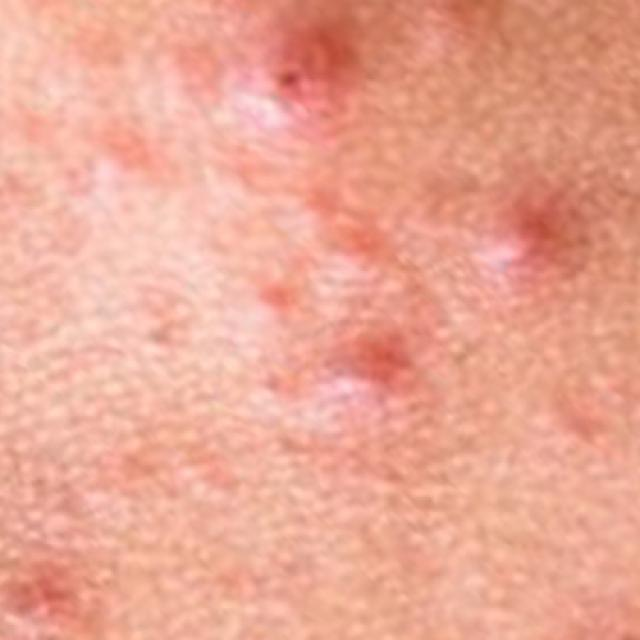acne: (222, 194, 442, 437), (433, 156, 600, 316), (208, 2, 358, 156), (68, 128, 166, 218)
